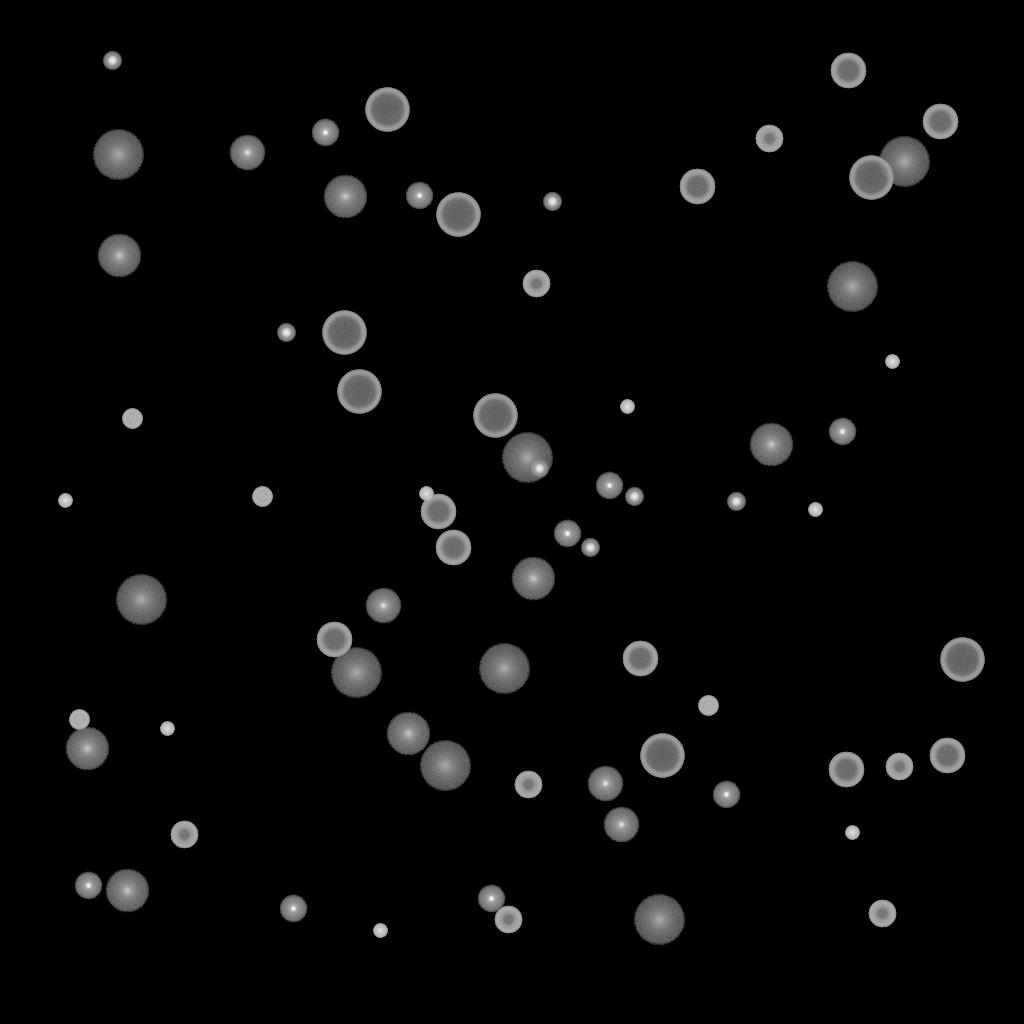depth:-10: (828, 418, 856, 446), (311, 119, 339, 147), (595, 472, 623, 500), (74, 872, 102, 900), (477, 885, 505, 913), (405, 182, 433, 210), (553, 520, 581, 548), (712, 781, 740, 809), (279, 895, 307, 923)
depth:-20: (103, 52, 121, 70), (727, 493, 745, 511), (625, 488, 643, 506), (530, 460, 548, 478), (581, 539, 599, 557), (543, 193, 561, 211), (277, 324, 295, 342)
depth:-30: (160, 722, 174, 736), (373, 924, 387, 938), (808, 503, 822, 517), (845, 826, 859, 840), (885, 355, 899, 369), (620, 400, 634, 414), (419, 487, 433, 501), (58, 494, 72, 508)
depth:-40: (122, 409, 142, 429), (69, 710, 89, 730), (698, 696, 718, 716), (252, 487, 272, 507)
depth:-50: (755, 125, 783, 153), (868, 900, 896, 928), (170, 821, 198, 849), (514, 771, 542, 799), (522, 270, 550, 298), (885, 753, 913, 781), (494, 906, 522, 934)
depth:-60: (420, 494, 456, 530), (828, 752, 864, 788), (435, 530, 471, 566), (316, 622, 352, 658), (922, 104, 958, 140), (929, 738, 965, 774), (622, 641, 658, 677), (679, 169, 715, 205), (830, 53, 866, 89)
depth:-70: (337, 370, 381, 414), (940, 638, 984, 682), (436, 193, 480, 237), (365, 88, 409, 132), (849, 156, 893, 200), (322, 311, 366, 355), (640, 734, 684, 778), (473, 394, 517, 438)
depth:0: (365, 588, 401, 624), (587, 766, 623, 802), (603, 807, 639, 843), (229, 135, 265, 171)
depth:10: (386, 712, 430, 756), (511, 557, 555, 601), (105, 869, 149, 913), (65, 727, 109, 771), (323, 175, 367, 219), (749, 423, 793, 467), (97, 234, 141, 278)
depth:20: (633, 895, 685, 945), (419, 741, 471, 791), (501, 433, 553, 483), (115, 575, 167, 625), (826, 262, 878, 312), (478, 644, 530, 694), (92, 130, 144, 180), (330, 648, 382, 698), (878, 137, 930, 187)
